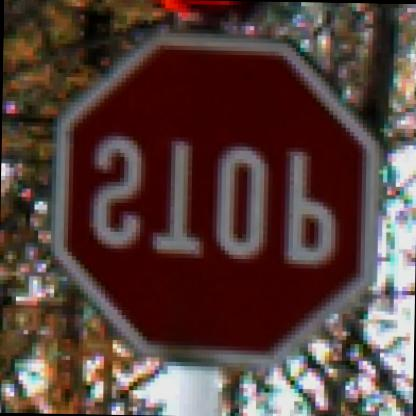stop: (55, 34, 386, 370)
